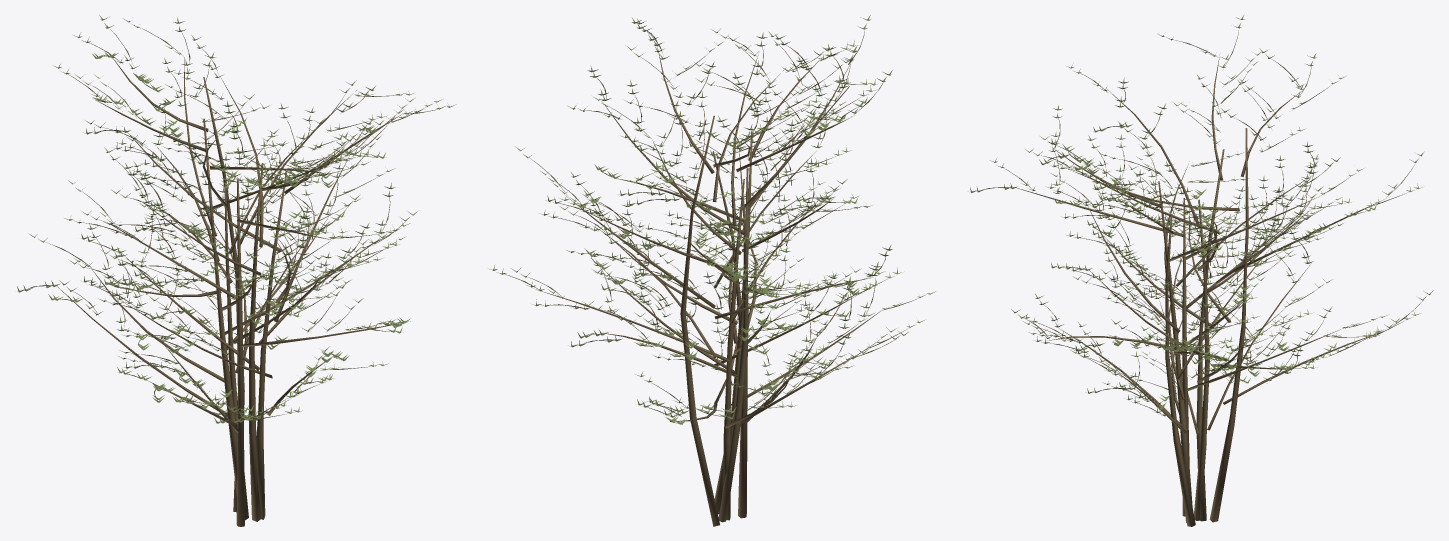
File: Bruyere_0_LOD1.fbx
3 renders of one model, left to right at view 1: azimuth 30°, elevation 25°; view 2: azimuth 150°, elevation 25°; view 3: azimuth 270°, elevation 25°, orthographic. The views are drawn at different scales.
Parts seen in each view (by area): view 1: Bruyere_0_LOD1; view 2: Bruyere_0_LOD1; view 3: Bruyere_0_LOD1.
Part boxes in pixels (box(x1,y1,x2,y2)): Bruyere_0_LOD1: box(17, 15, 456, 526); Bruyere_0_LOD1: box(488, 15, 935, 526); Bruyere_0_LOD1: box(968, 15, 1433, 526).
Bounding box in the file's own units: 226 × 281 × 276.
